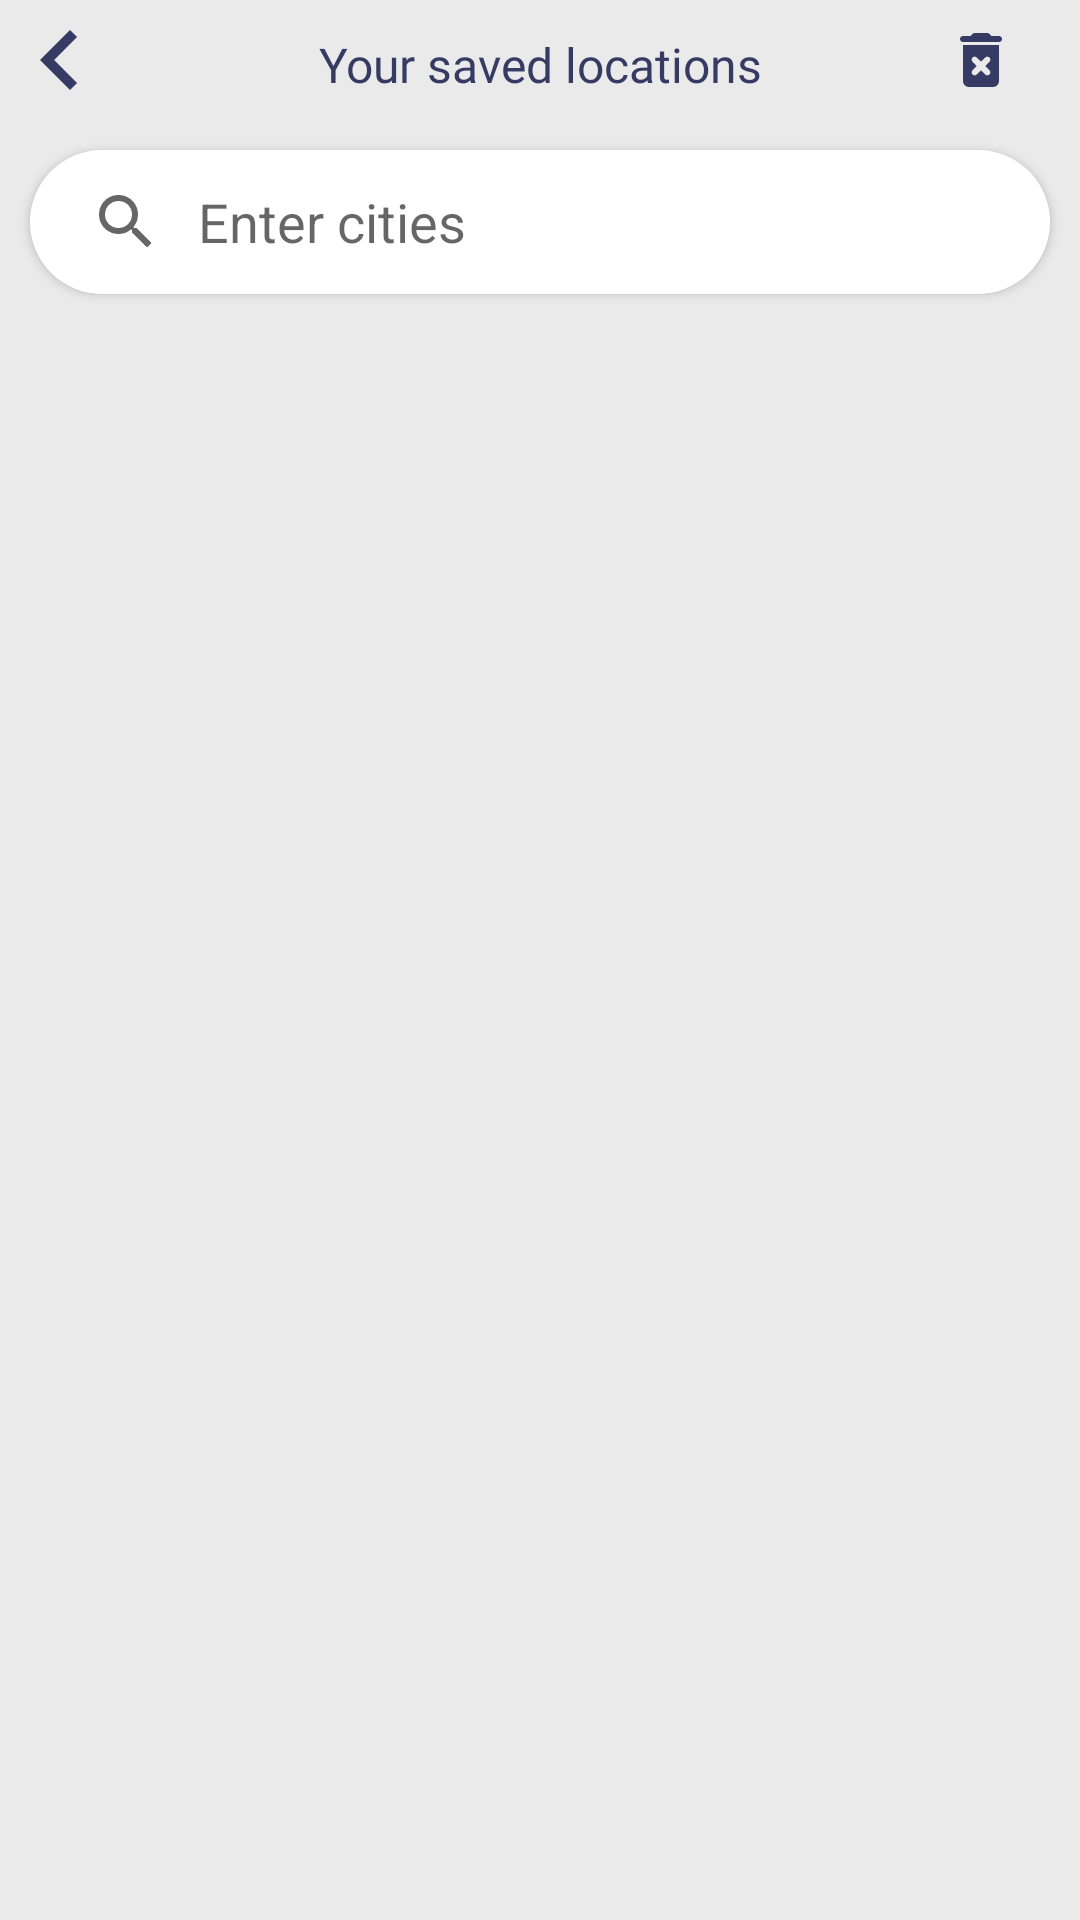

Icons on this 1080px×1920px Android screen, each with its box as (x1, y1, x2, y2):
back arrow: (40, 30, 77, 90)
delete: (960, 33, 1002, 87)
